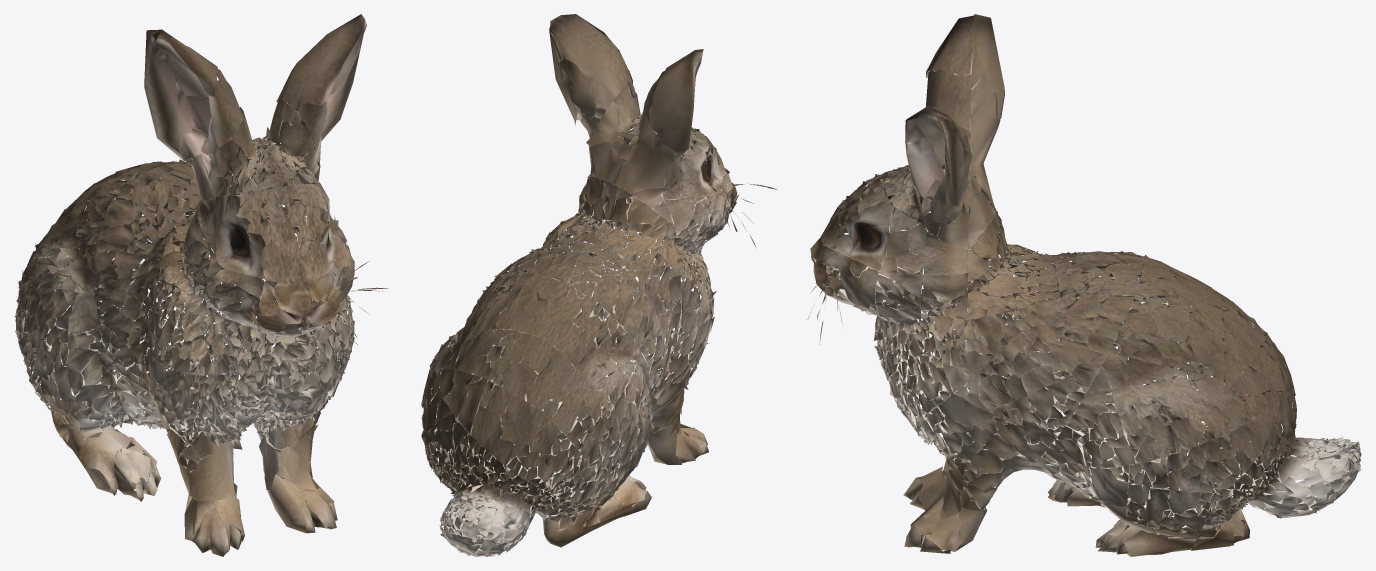
File: rabbit.glb
3 renders of one model, left to right at view 1: azimuth 30°, elevation 25°; view 2: azimuth 150°, elevation 25°; view 3: azimuth 270°, elevation 25°, orthographic. The views are drawn at different scales.
Visible parts, largest first — view 1: Mesh_0; view 2: Mesh_0; view 3: Mesh_0.
Boxes of the visible parts, x1,y1,x2,y2 form: Mesh_0: [14, 14, 388, 556]; Mesh_0: [421, 14, 777, 556]; Mesh_0: [807, 14, 1361, 556].
Bounding box in the file's own units: 0.0245 × 0.0504 × 0.0534.
1 material, 1 textured.
